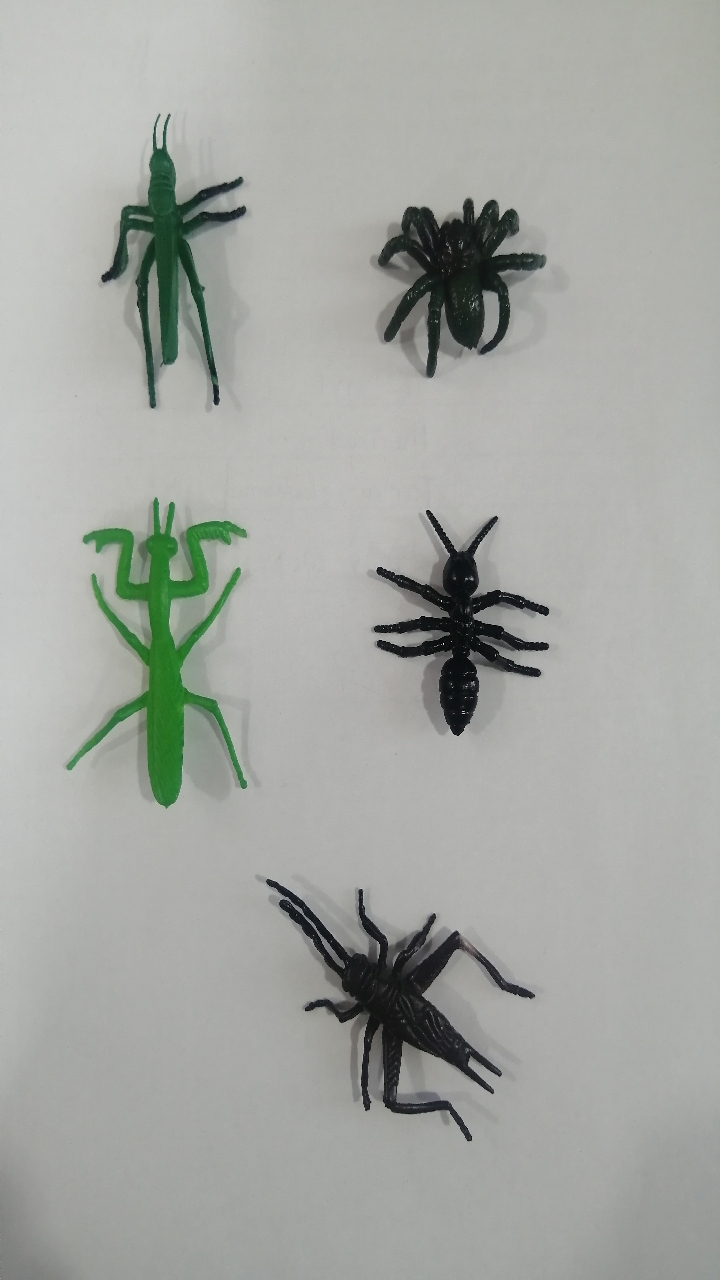intruso: (237, 835, 568, 1182), (52, 471, 292, 849), (58, 80, 289, 445), (344, 477, 571, 760), (348, 159, 561, 415)
